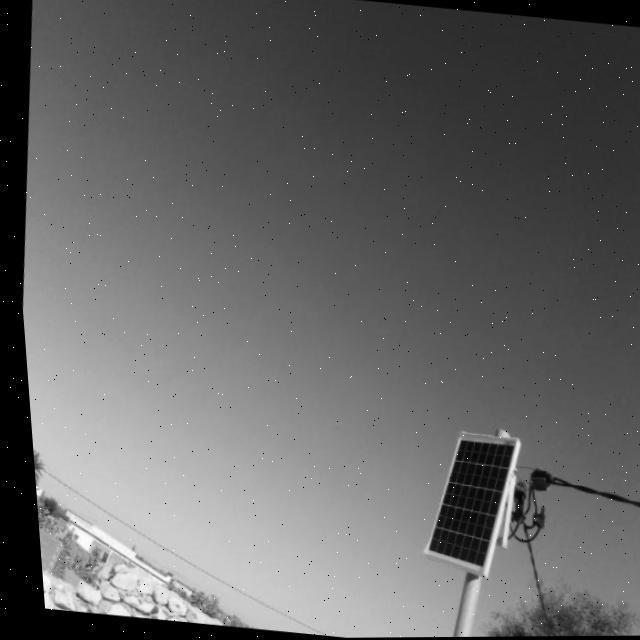Normal Solar Panel: (406, 429, 520, 579)
